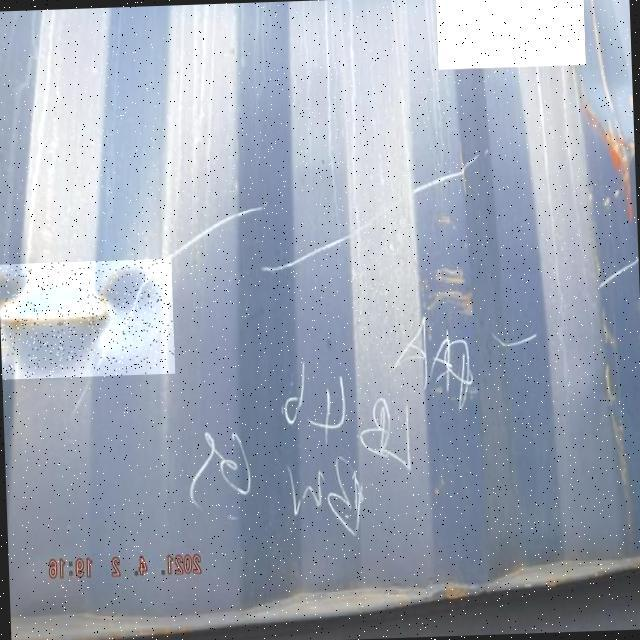Minor-Dent: (0, 258, 175, 379)
